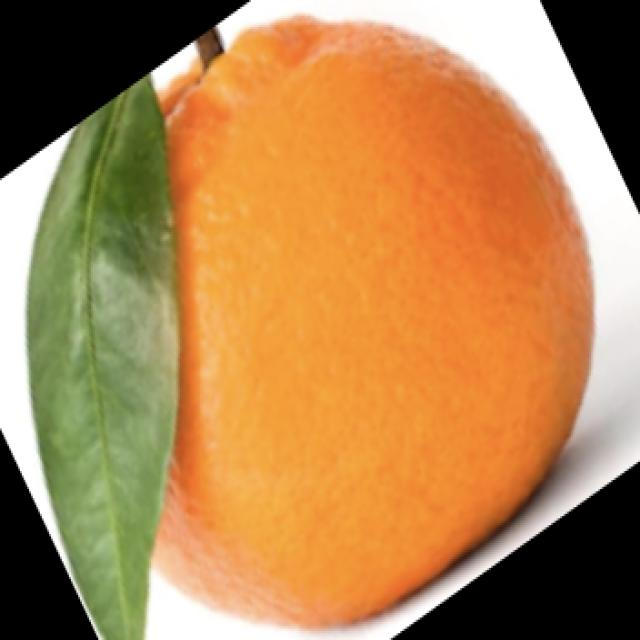matang: (67, 10, 595, 624)
